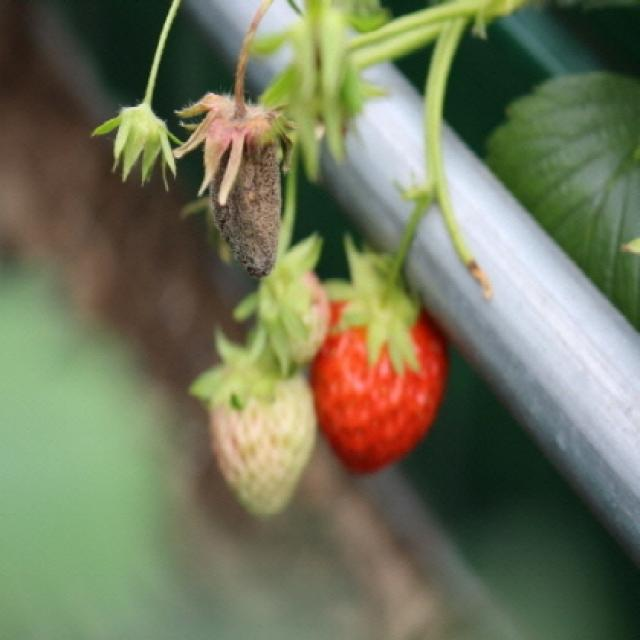Gray Mold: (171, 65, 298, 282)
